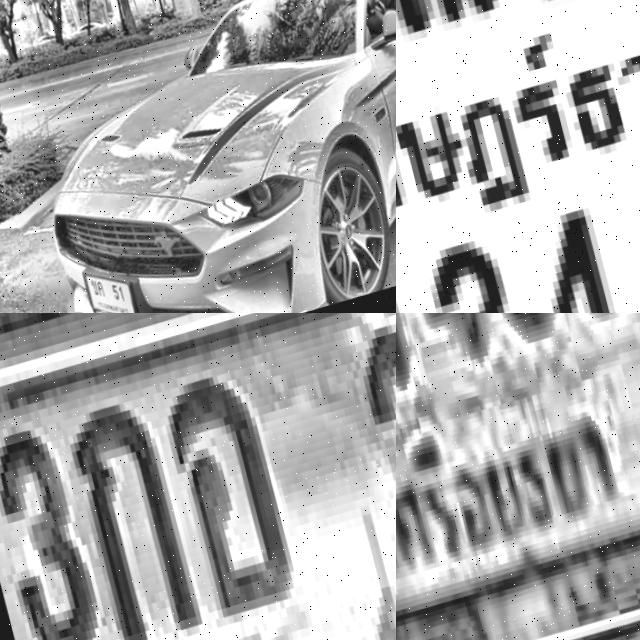license-plate: (0, 313, 396, 640), (396, 313, 640, 640), (396, 0, 640, 313), (66, 251, 147, 313)
